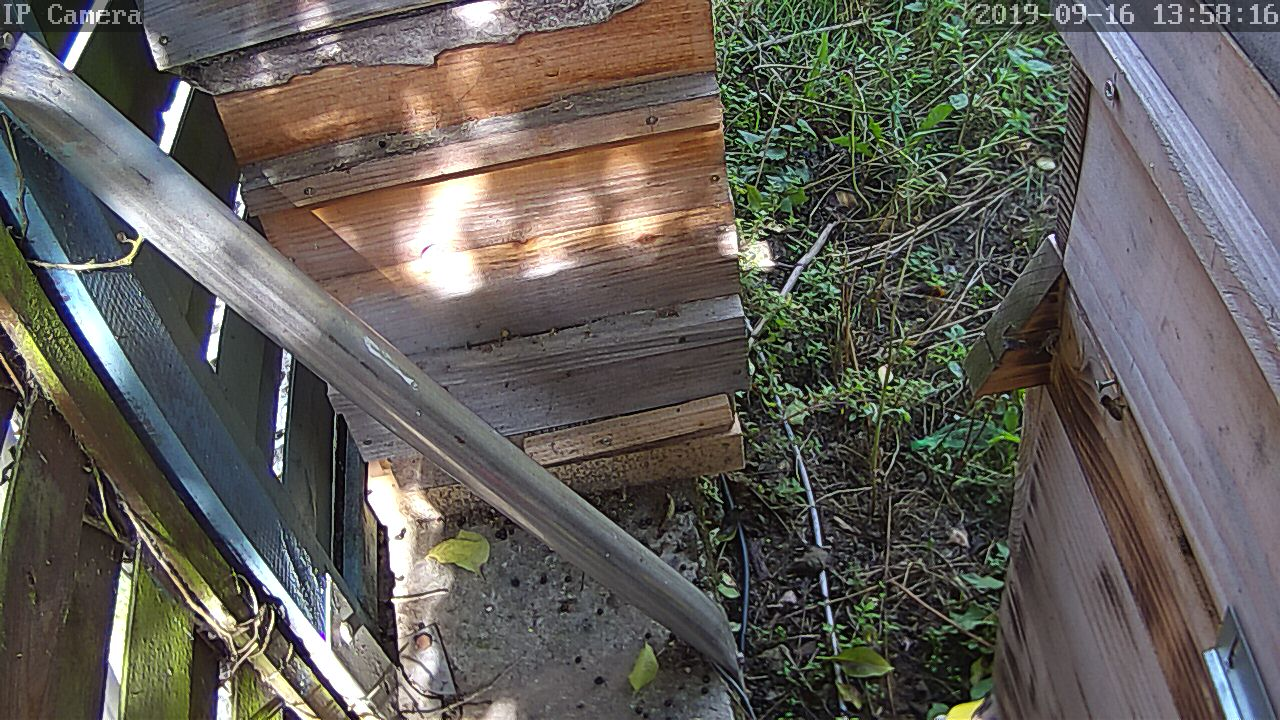bee: (1099, 384, 1134, 421)
